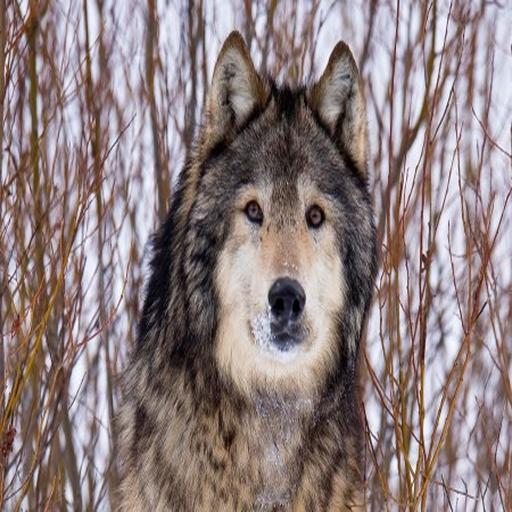Wolf: (102, 27, 425, 512)
